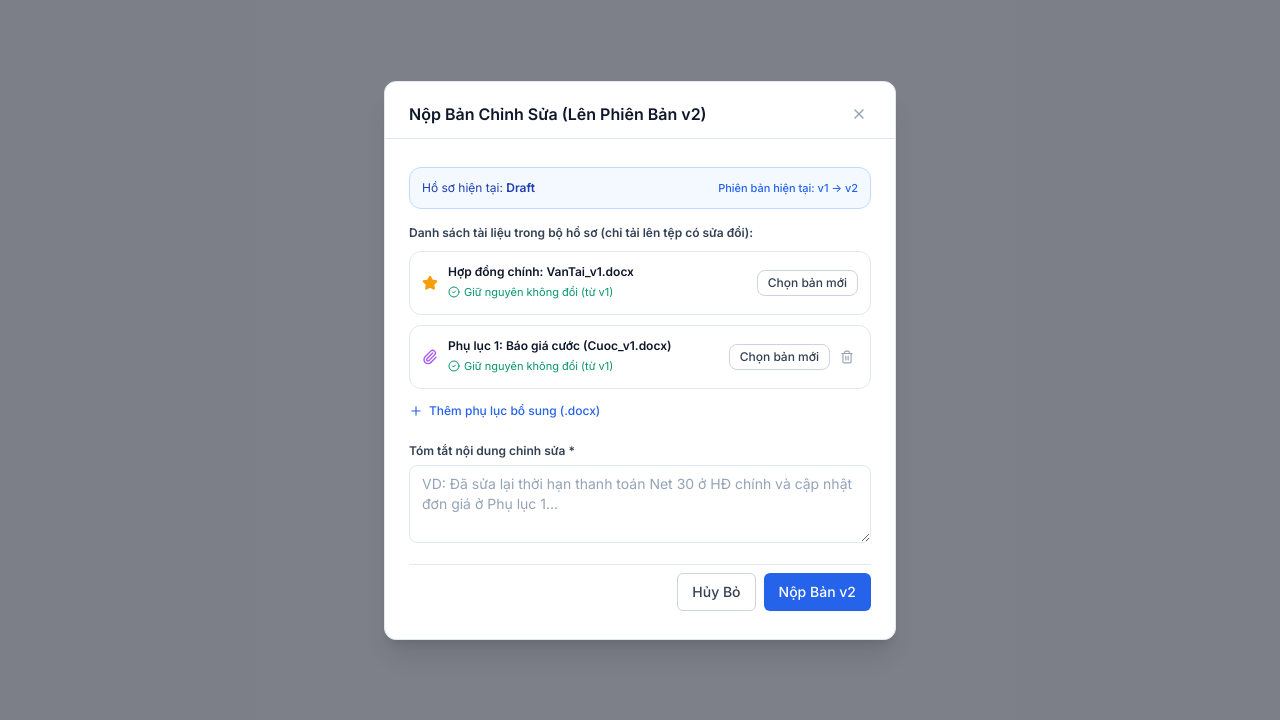
Test case: UploadVersionModal Component › allows toggling remove on an annex for the new version
Click the button titled "Gỡ bỏ phụ lục này" at (847, 356), box top-left (836, 346), bottom-right (858, 368)
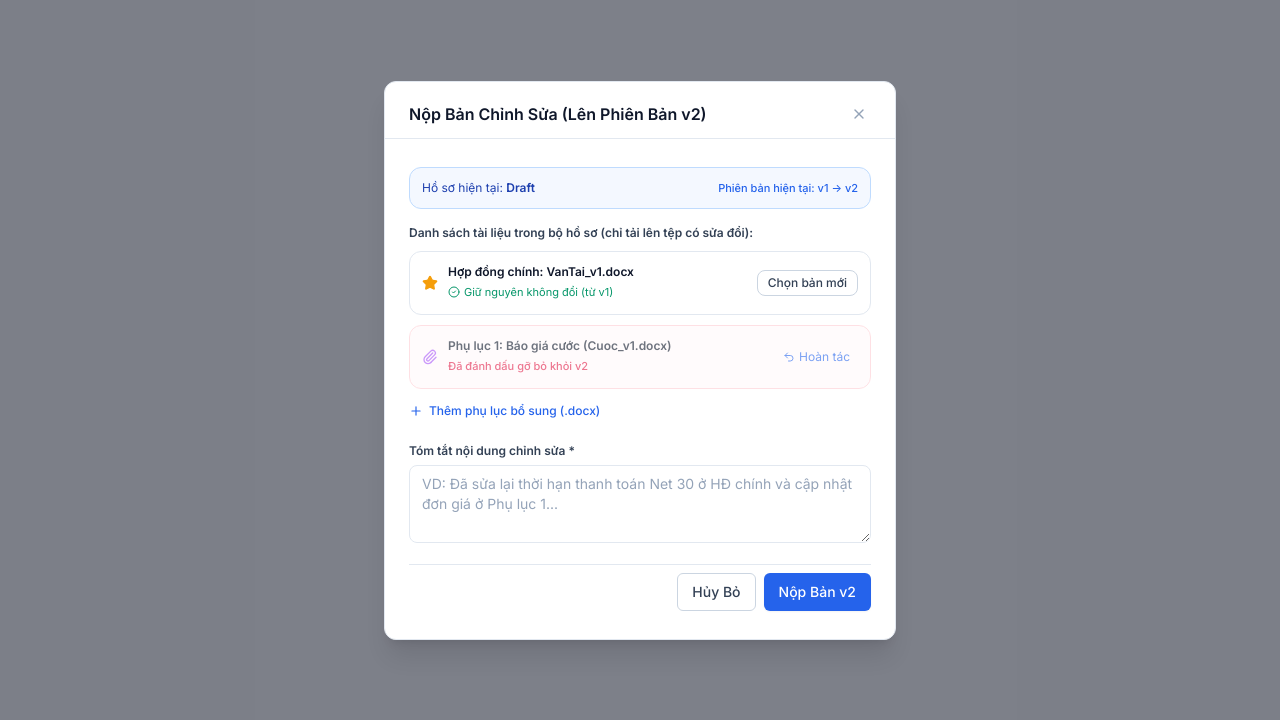
Expected: the text "Đã đánh dấu gỡ bỏ khỏi v2" is shown, top-left (448, 358), bottom-right (588, 372)
Expected: the button "Hoàn tác" is shown
Click Undo
Click the button "Hoàn tác" at (816, 356), box top-left (775, 344), bottom-right (858, 368)
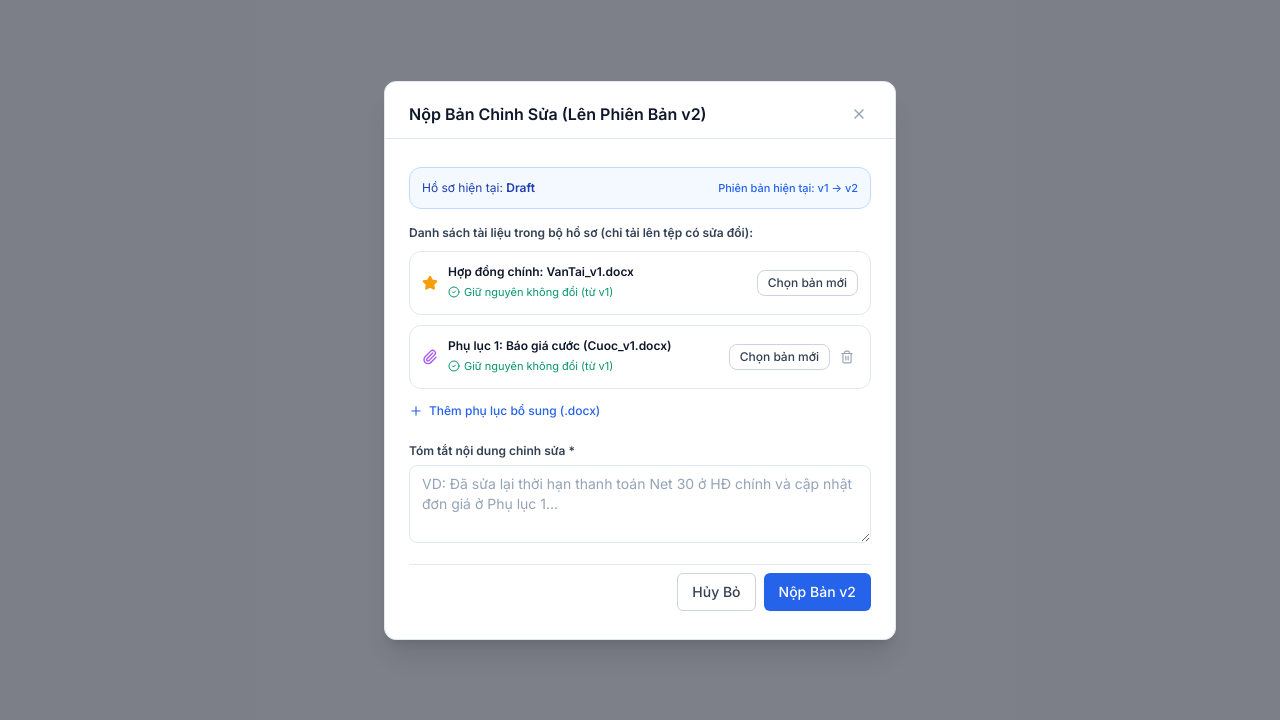
Expected: the text "Đã đánh dấu gỡ bỏ khỏi v2" is gone
